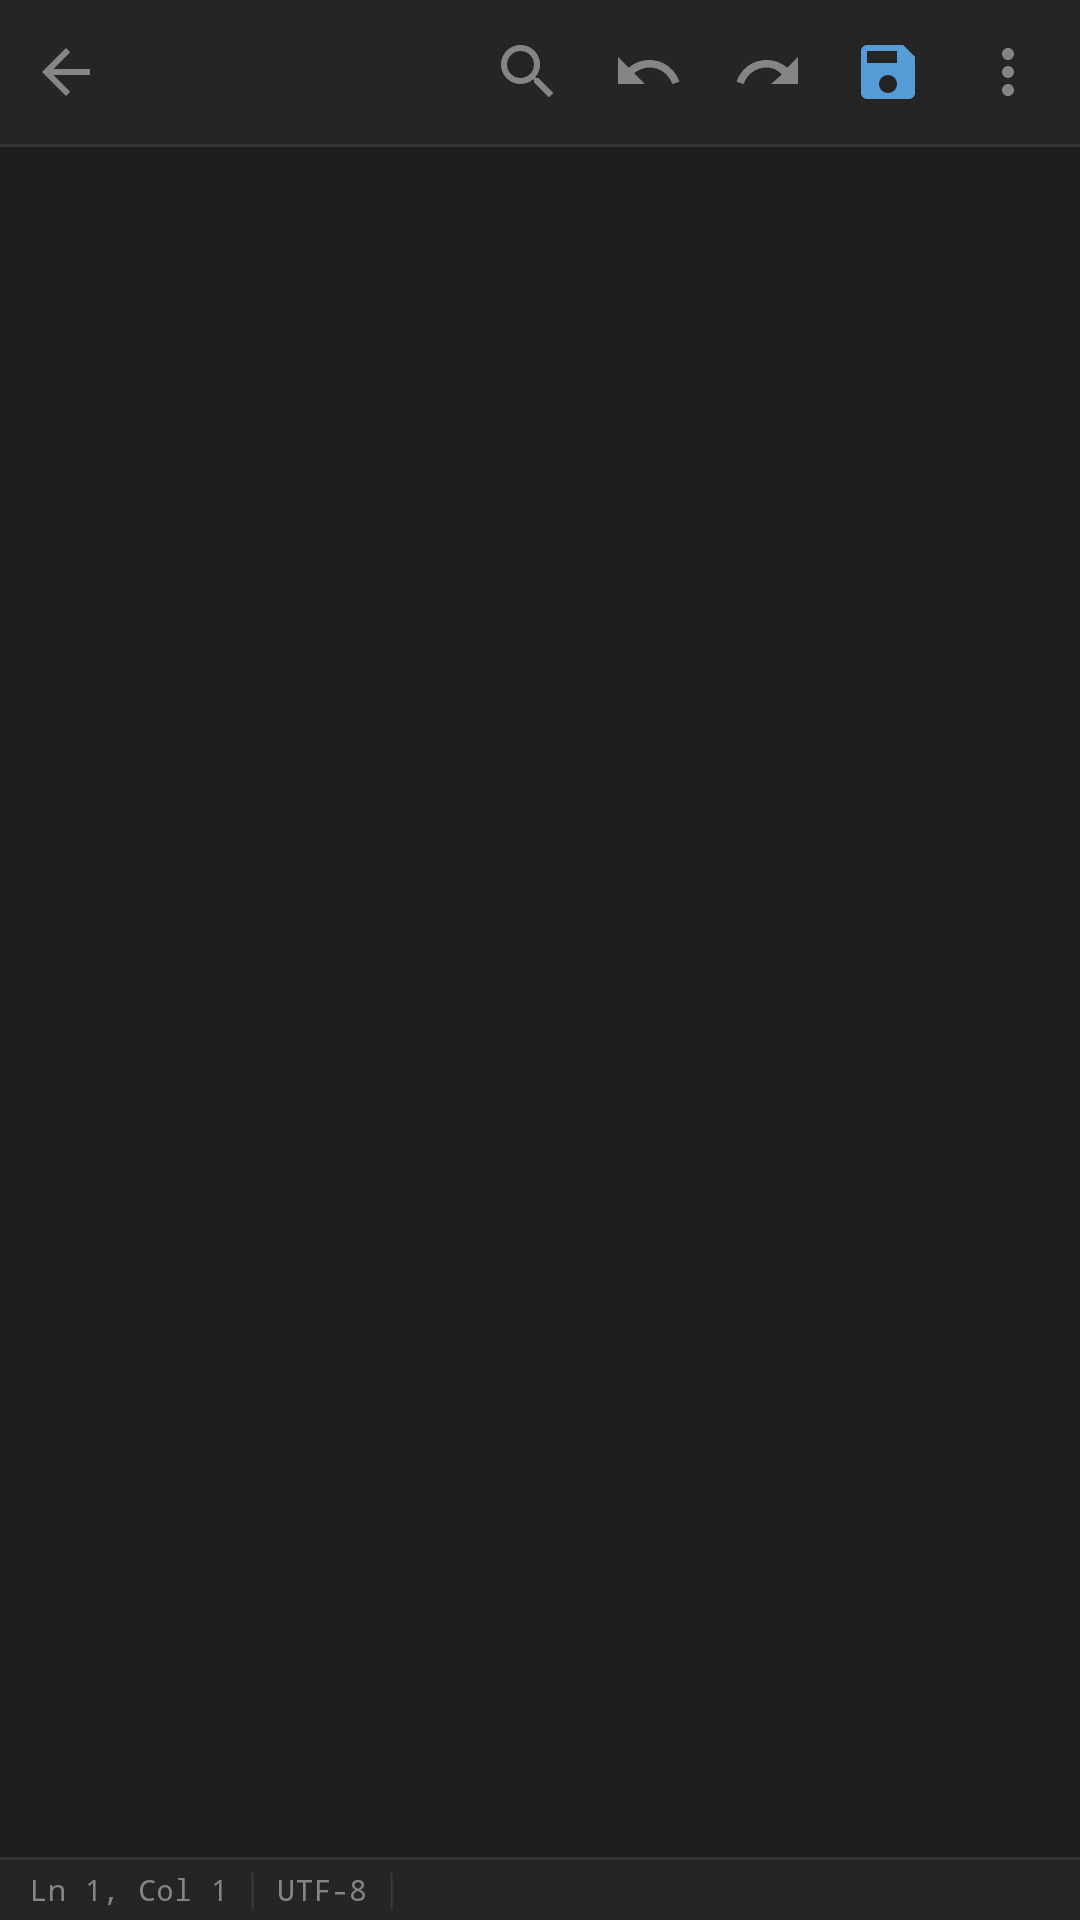

Where to tap for icons on this 1080*1920 app screen, as (x,y):
Back: (66,72)
Find: (527,71)
More options: (1008,72)
Redo: (767,70)
Save: (888,72)
Undo: (648,70)
